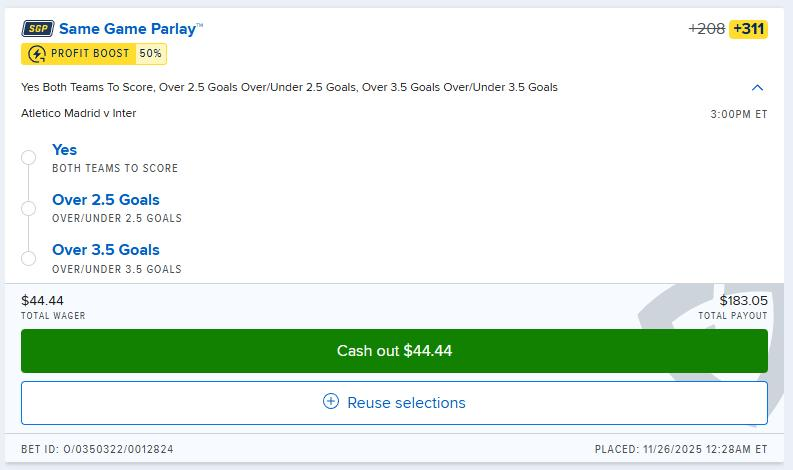game: (19, 105, 138, 123)
odds: (729, 20, 768, 39)
payout: (716, 292, 771, 309)
wager: (18, 291, 66, 309)
